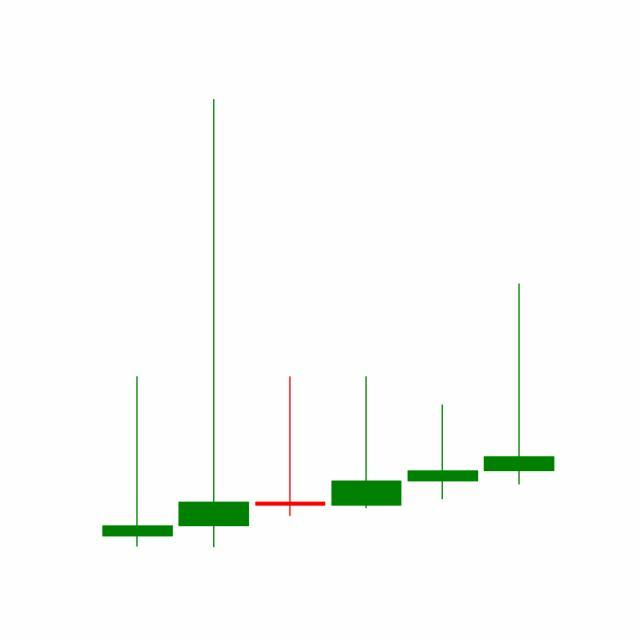Spinning Top: (404, 404, 482, 502)
